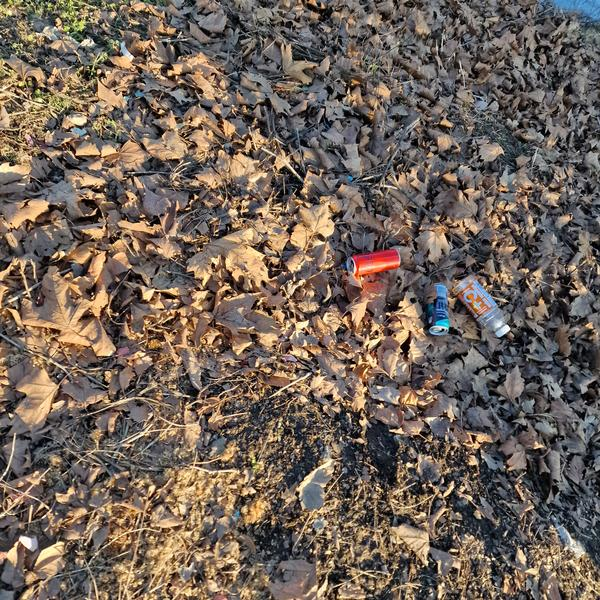can: (345, 248, 403, 277), (424, 283, 448, 336)
plastic_bottle: (450, 272, 516, 343)
